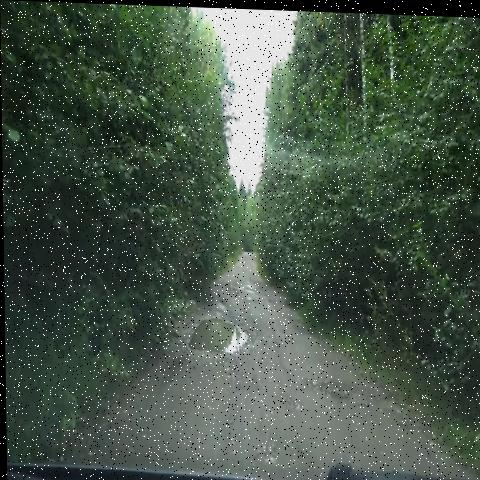pothole: (180, 302, 258, 366), (305, 370, 361, 410), (230, 272, 266, 313)
